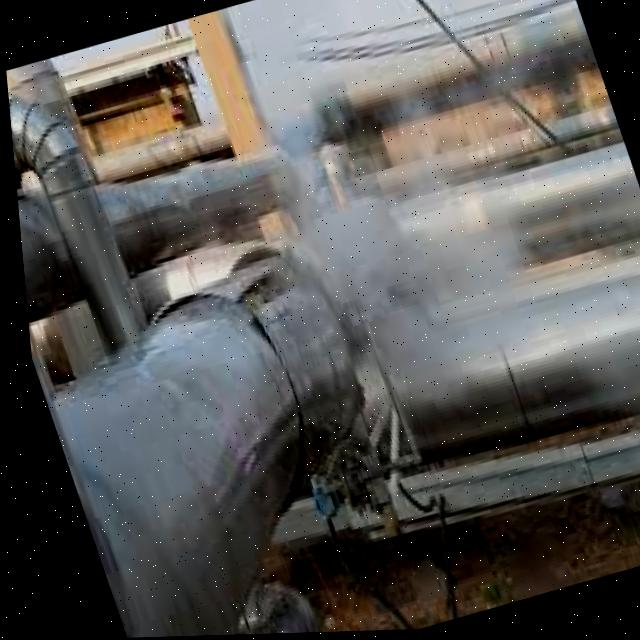corrosion: (245, 125, 473, 363)
